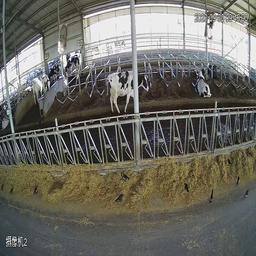cow: (117, 69, 158, 113), (192, 69, 213, 99), (29, 71, 43, 109), (42, 71, 52, 98)
